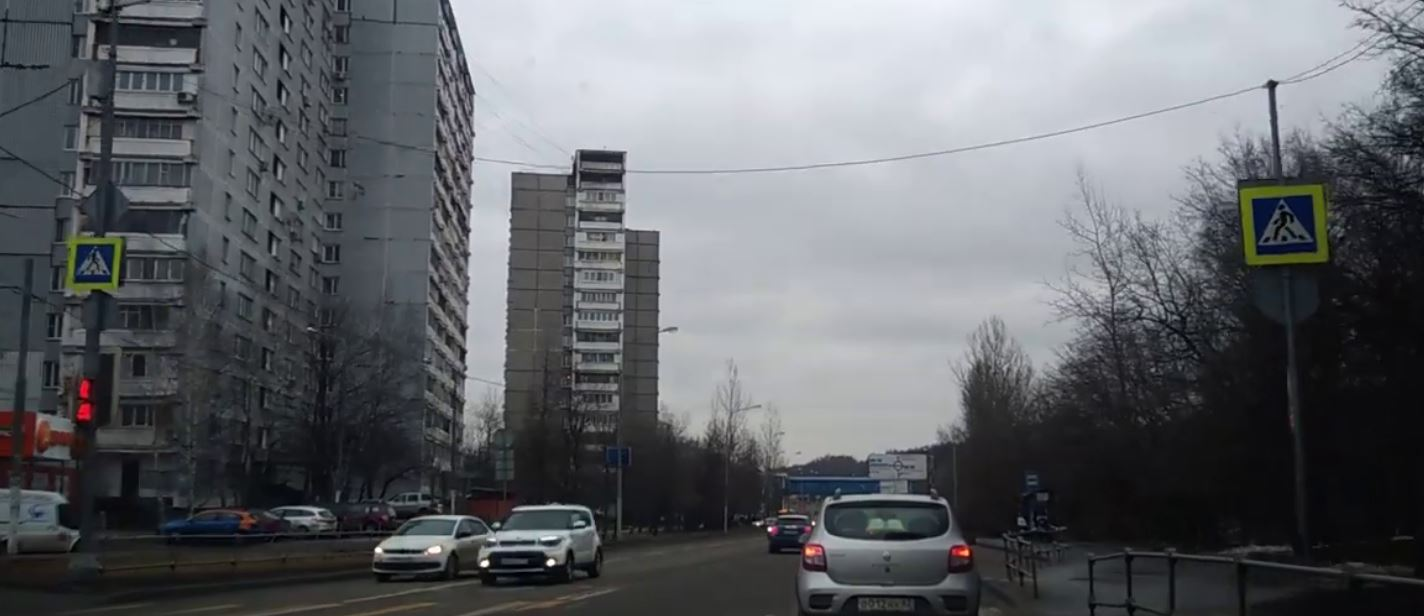Yaya Gecidi: (1254, 199, 1319, 255), (73, 244, 117, 282)
